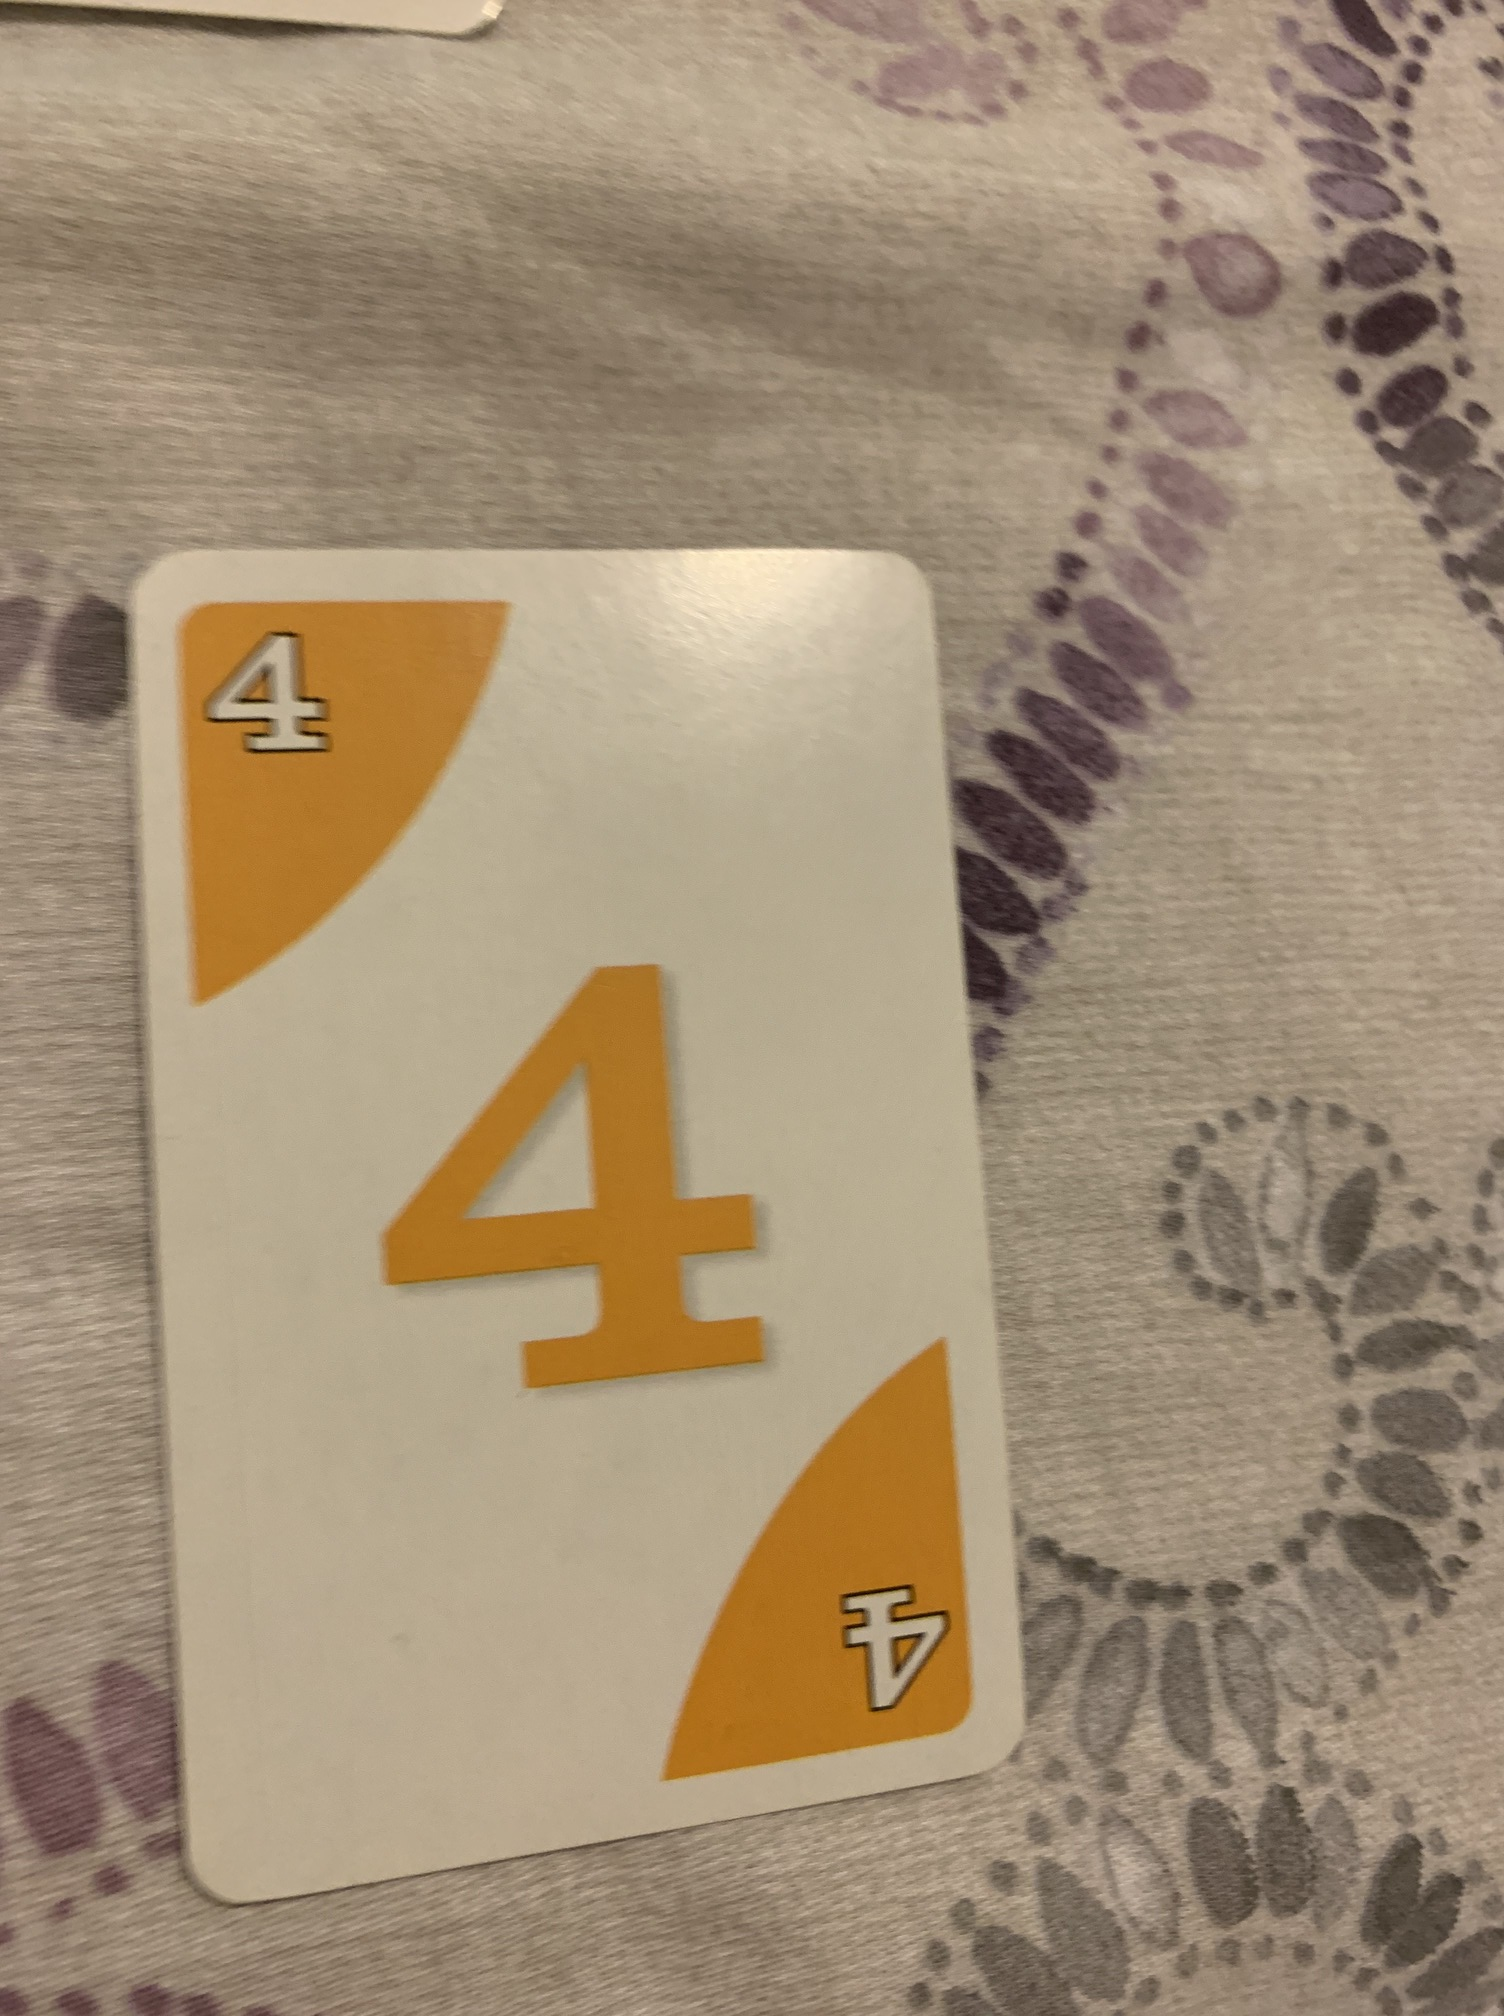four: (109, 518, 1043, 1912)
